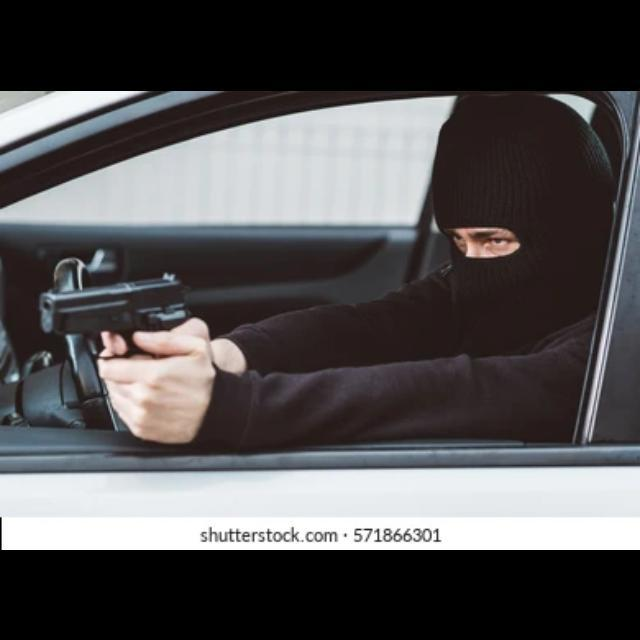criminal: (37, 92, 636, 455)
weapon: (37, 267, 195, 358)
